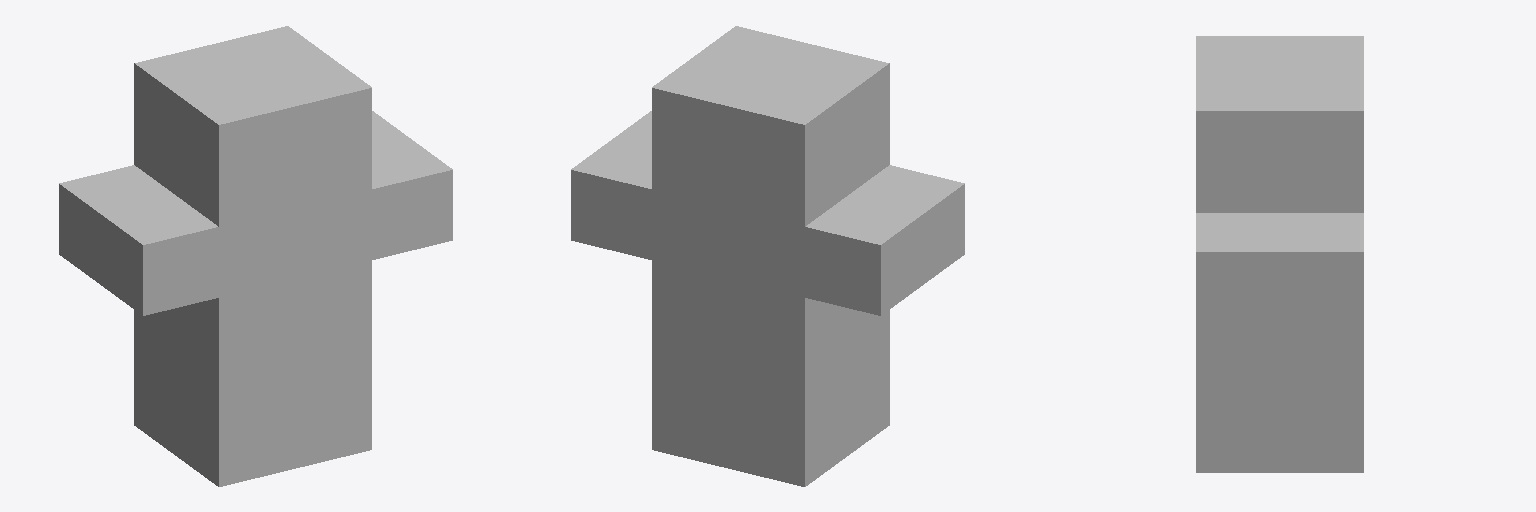
File: bonhomme.obj
The picture shows the model from 3 angles: view 1: azimuth 30°, elevation 25°; view 2: azimuth 150°, elevation 25°; view 3: azimuth 270°, elevation 25°; orthographic projection.
Parts seen in each view (by area): view 1: Bonhomme; view 2: Bonhomme; view 3: Bonhomme.
Part boxes in pixels (x1,y1,x2,y2): Bonhomme: (59, 26, 452, 486); Bonhomme: (571, 26, 964, 486); Bonhomme: (1196, 36, 1363, 472).
Size of the model in its own units: 1.79 by 2 by 0.8451.